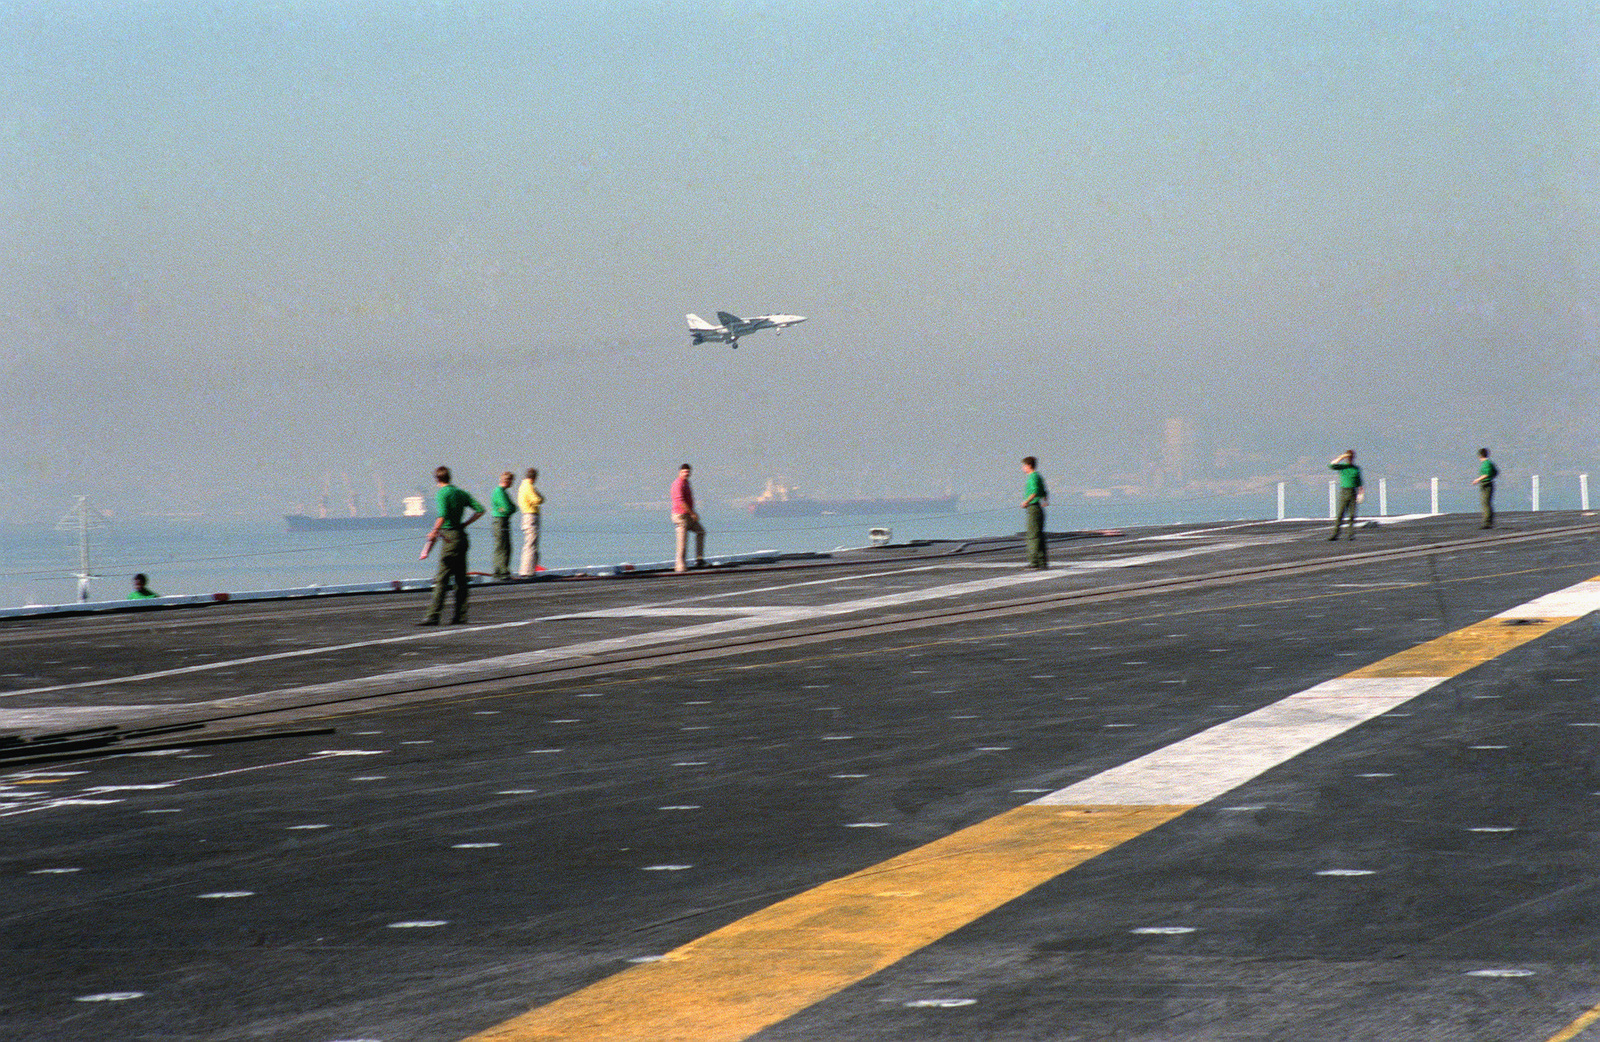F14: (685, 311, 809, 348)
